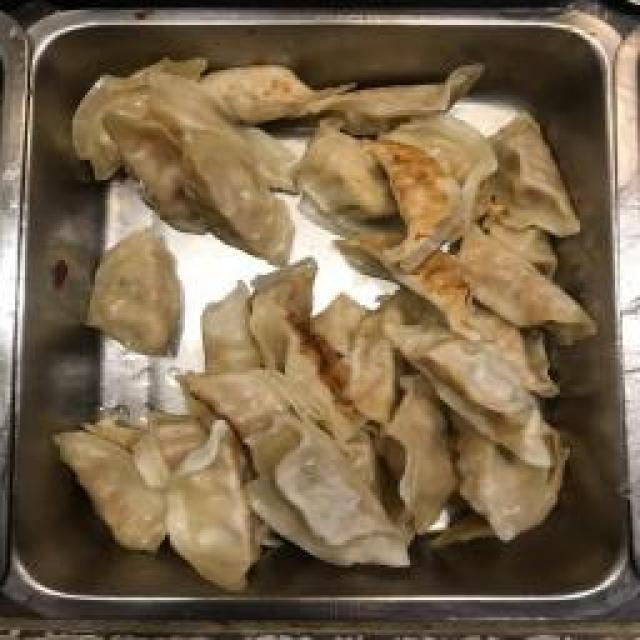fried_dumplings: (80, 73, 565, 528)
